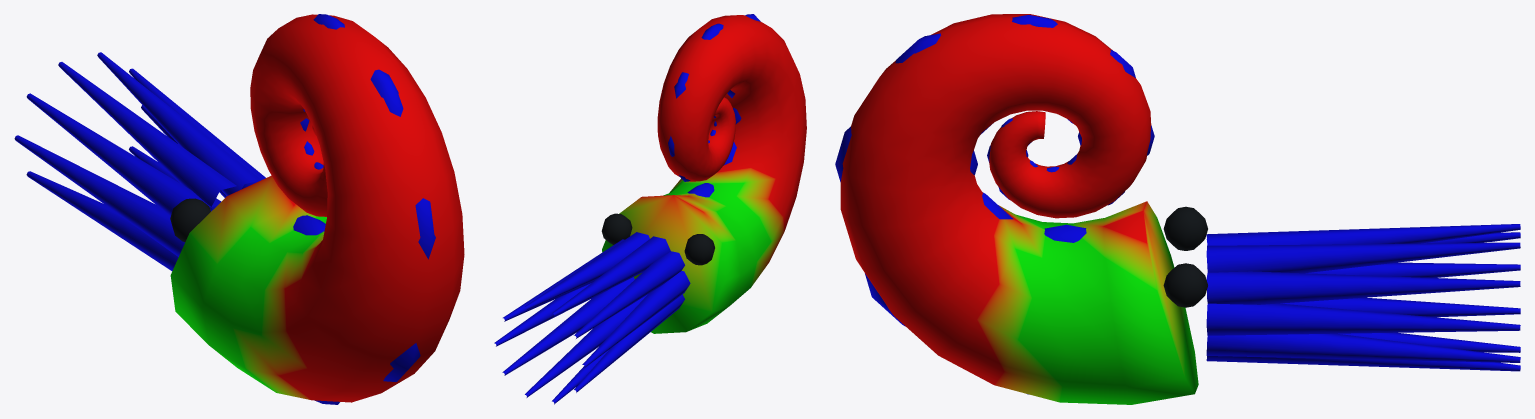
Rendered from fish_ammonite.glb.
3 renders of one model, left to right at view 1: azimuth 30°, elevation 25°; view 2: azimuth 150°, elevation 25°; view 3: azimuth 270°, elevation 25°, orthographic. The views are drawn at different scales.
Visible parts, largest first — view 1: Body, Eye; view 2: Body, Eye; view 3: Body, Eye.
Part boxes in pixels (<box>): Body: <box>14,14,464,404</box>; Eye: <box>170,198,210,241</box>; Body: <box>494,14,806,404</box>; Eye: <box>601,213,714,265</box>; Body: <box>835,14,1520,404</box>; Eye: <box>1163,206,1207,307</box>.
Bounding box in the file's own units: 0.2688 × 0.5733 × 0.922.
